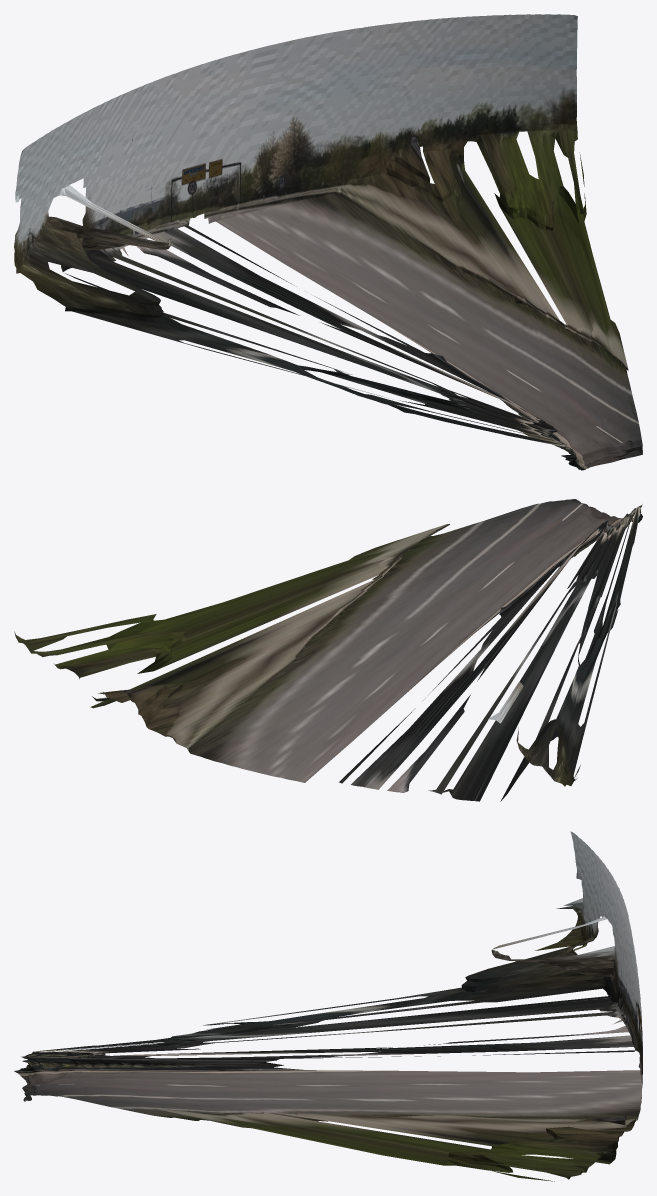
3 views of the same model, one above another, from view 1: azimuth 30°, elevation 25°; view 2: azimuth 150°, elevation 25°; view 3: azimuth 270°, elevation 25° (orthographic). The views are drawn at different scales.
Parts seen in each view (by area): view 1: defaultobject; view 2: defaultobject; view 3: defaultobject.
Boxes of the visible parts, x1,y1,x2,y2 form: defaultobject: [14, 14, 642, 470]; defaultobject: [14, 499, 642, 801]; defaultobject: [14, 831, 642, 1181].
Bounding box in the file's own units: 41.05 × 11.74 × 44.87.
1 material, 1 textured.
